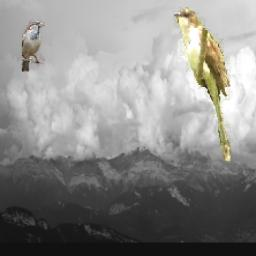Cuckoo: (171, 8, 229, 163)
Sparrow: (22, 20, 45, 72)
